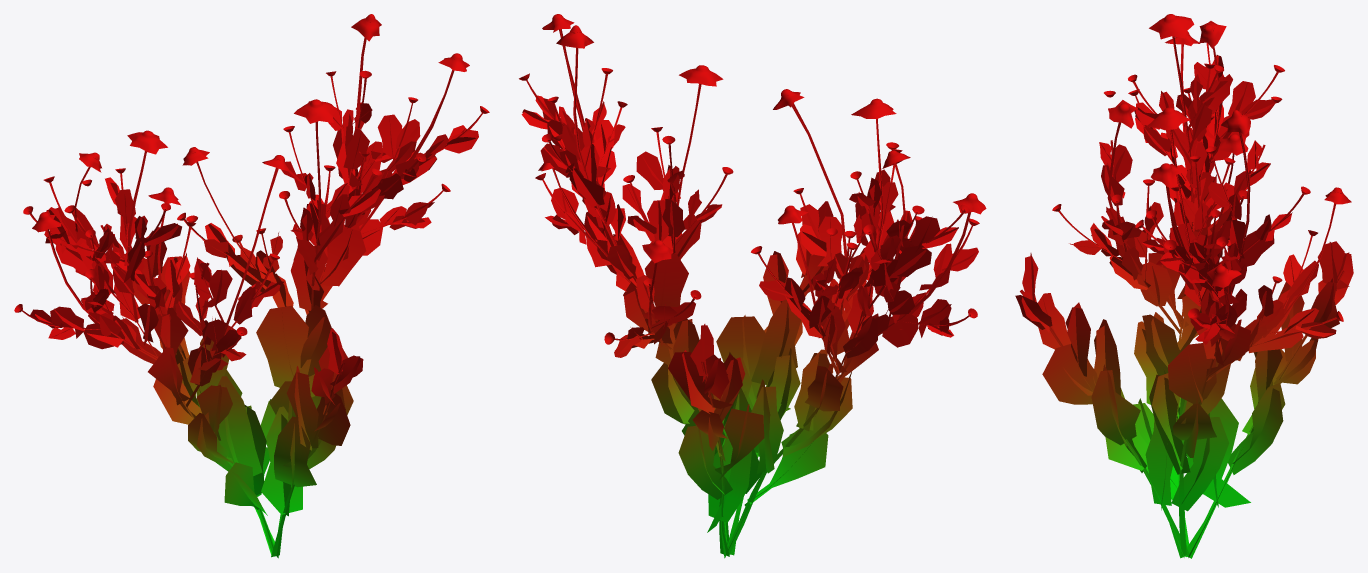
File: Chamomile_LOD0_Var2_ujcnejvja.fbx
The picture shows the model from 3 angles, left to right: view 1: azimuth 30°, elevation 25°; view 2: azimuth 150°, elevation 25°; view 3: azimuth 270°, elevation 25°; orthographic projection. The views are drawn at different scales.
Visible parts, largest first — view 1: _ysy4_Var2_LOD0; view 2: _ysy4_Var2_LOD0; view 3: _ysy4_Var2_LOD0.
Part boxes in pixels (x1,y1,x2,y2): _ysy4_Var2_LOD0: (14,14,489,558); _ysy4_Var2_LOD0: (519,14,986,558); _ysy4_Var2_LOD0: (1015,14,1353,558).
Size of the model in its own units: 57.97 by 60.37 by 36.4.
